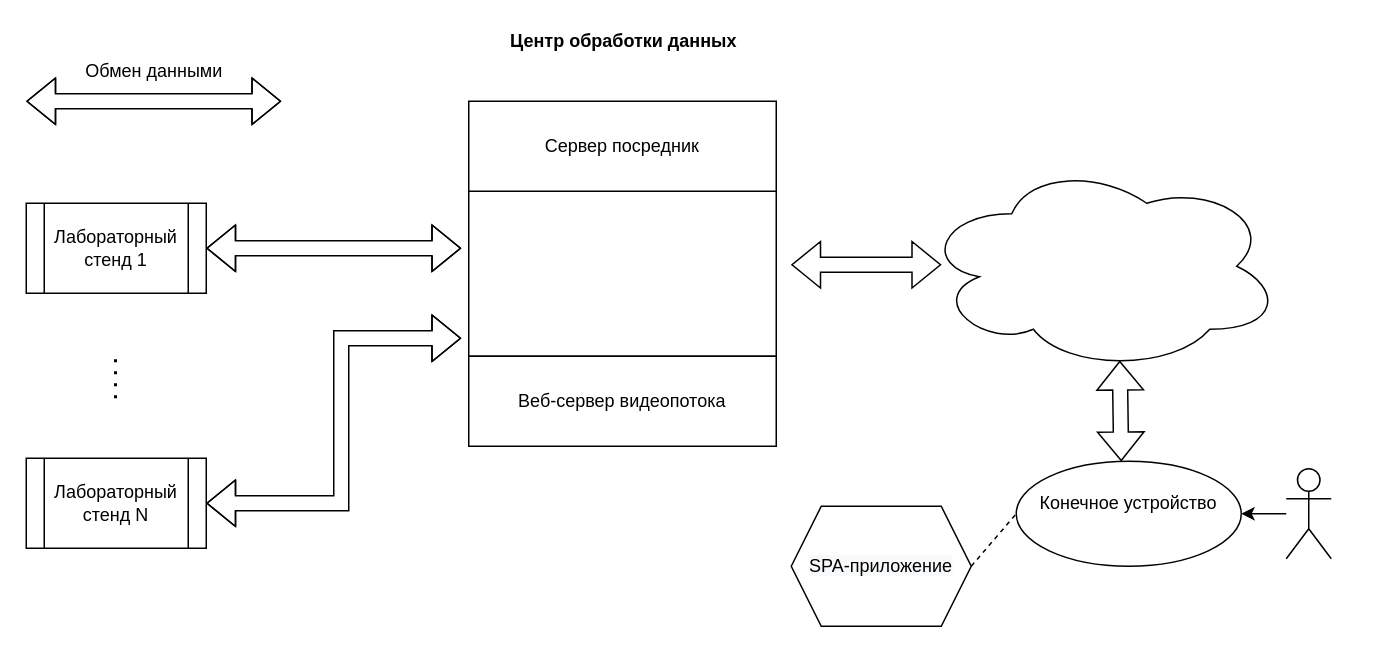
Some shapes in this 1394 by 653 pixel diagram are drawn without their labels. The shapes that lost their labels are listed below. From the top down, each one's centre as x and y in pixels, then its label:
the point at 621,265: Cервер контроля и управления лабораторным стендом
the point at 1101,265: Интернет
the point at 1308,513: Пользователь
